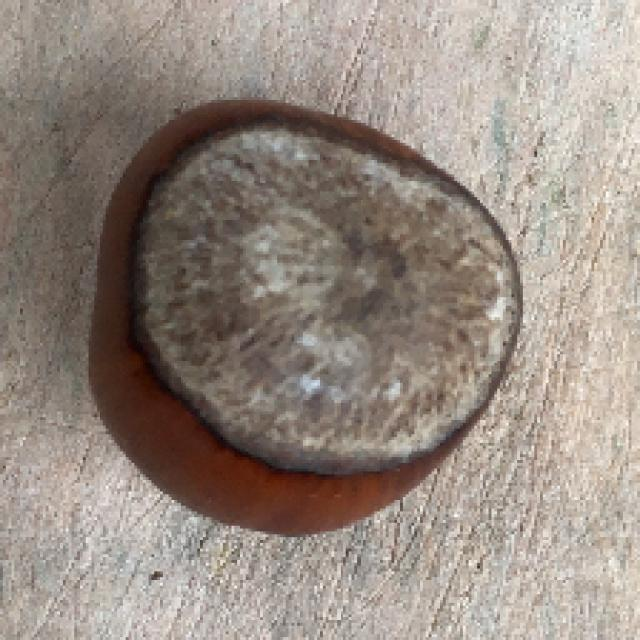qualityHazelnut: (85, 95, 528, 539)
